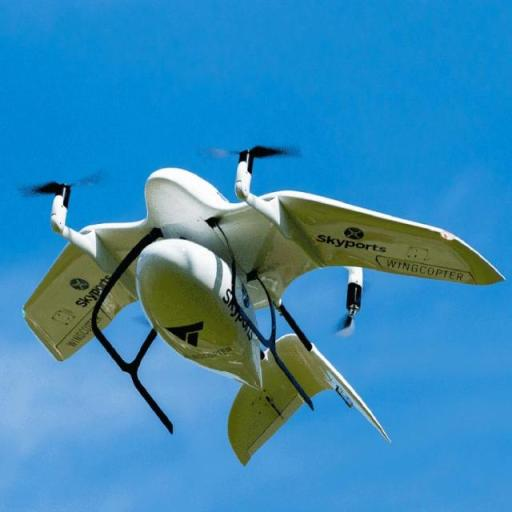uav: (19, 148, 507, 466)
